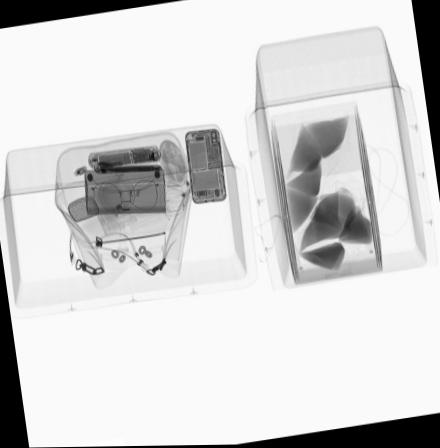Lighter: (68, 250, 83, 274)
